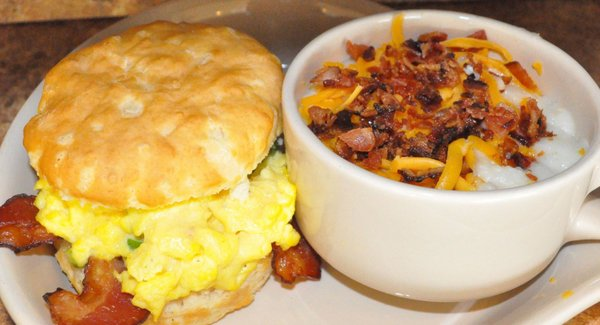soup: (7, 20, 309, 320)
sushi: (280, 8, 599, 309)
